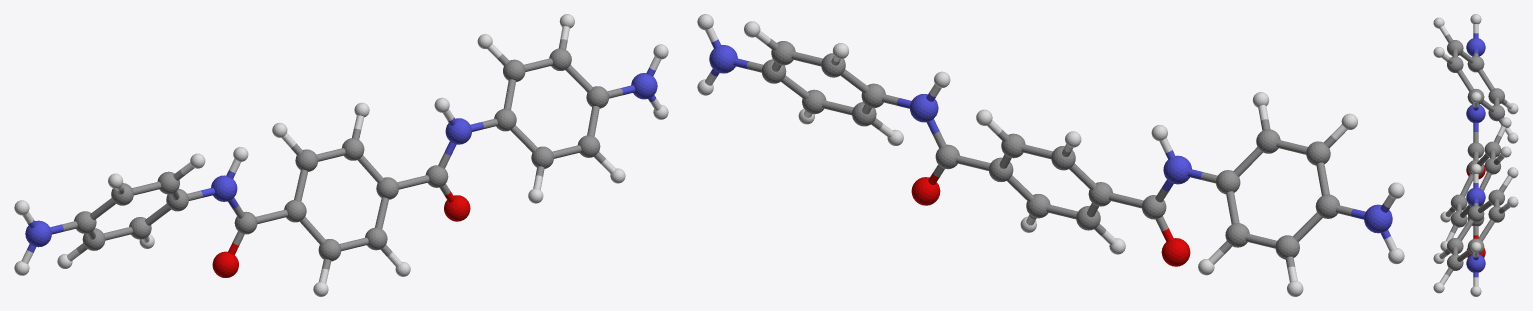
File: kevlar_model.glb
3 views of the same model, side by side, from view 1: azimuth 30°, elevation 25°; view 2: azimuth 150°, elevation 25°; view 3: azimuth 270°, elevation 25° (orthographic). The views are drawn at different scales.
Parts seen in each view (by area): view 1: world; view 2: world; view 3: world.
Part boxes in pixels (left/top/right/bottom): world: left=14, top=14, right=668, bottom=296; world: left=697, top=14, right=1404, bottom=296; world: left=1433, top=14, right=1518, bottom=296.
Bounding box in the file's own units: 198 × 51.19 × 30.55.
